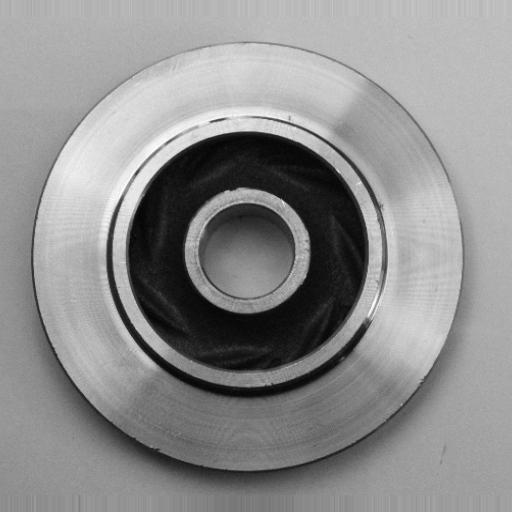unpolished_casting: (29, 40, 466, 477)
